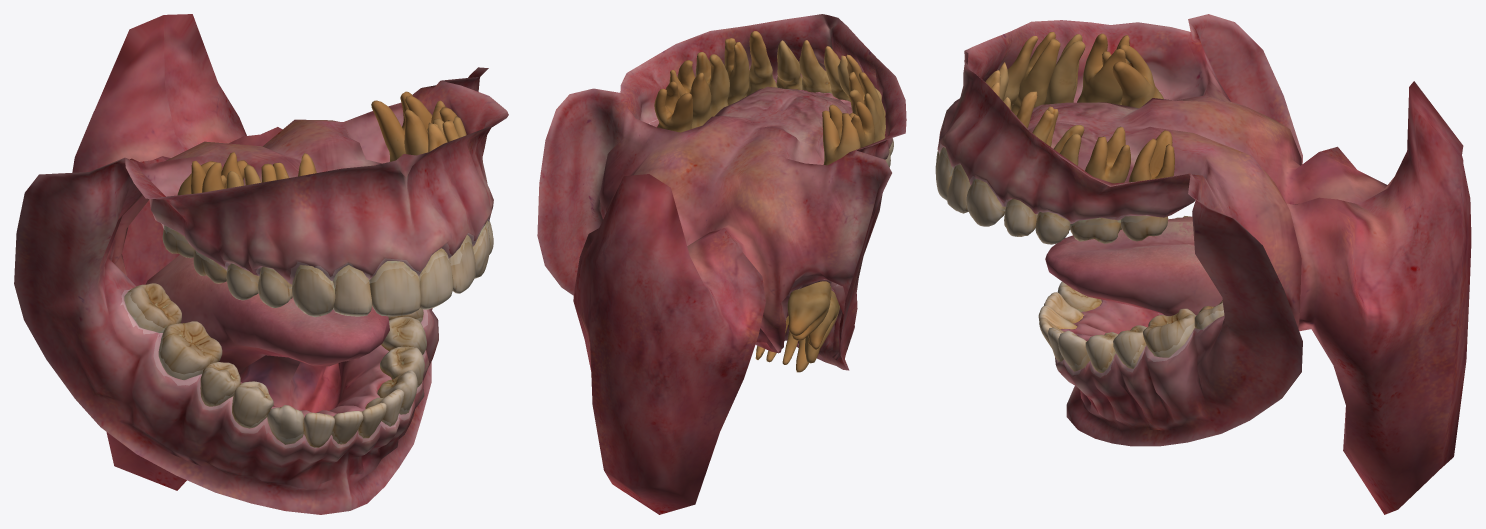
Rendered from human_mouth_detailed_edited (1).glb.
3 renders of one model, left to right at view 1: azimuth 30°, elevation 25°; view 2: azimuth 150°, elevation 25°; view 3: azimuth 270°, elevation 25°, orthographic. The views are drawn at different scales.
Parts seen in each view (by area): view 1: mouth_0, teeth_1, wet_2; view 2: mouth_0, teeth_1; view 3: mouth_0, teeth_1, wet_2.
Part boxes in pixels (x1,y1,x2,y2): mouth_0: (14, 14, 508, 514); teeth_1: (124, 91, 493, 447); wet_2: (121, 217, 489, 448); mouth_0: (537, 14, 906, 514); teeth_1: (654, 31, 893, 372); mouth_0: (937, 14, 1471, 514); teeth_1: (935, 32, 1224, 372); wet_2: (938, 91, 1223, 377).
Bounding box in the file's own units: 0.2433 × 0.2663 × 0.2801.
Materials: 3 (2 with a texture image).
